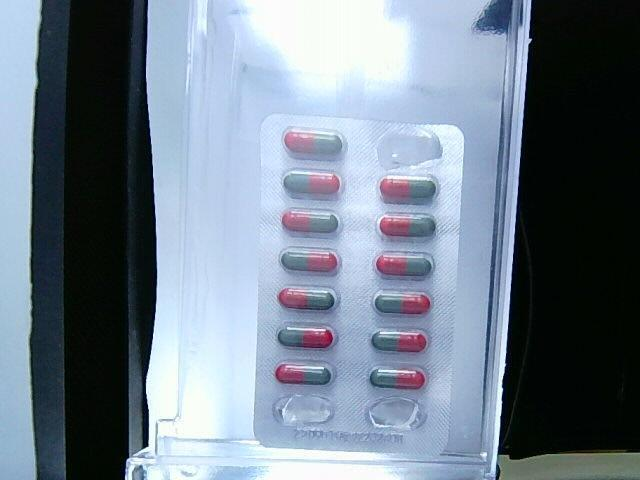Light Front: (256, 115, 462, 455)
No Pill Front: (378, 133, 443, 169), (365, 396, 426, 431), (274, 394, 335, 427)
Pill Front: (280, 248, 340, 274), (375, 251, 433, 276), (281, 209, 339, 233), (284, 130, 342, 153), (378, 214, 436, 237), (374, 291, 431, 314), (284, 170, 340, 193), (380, 175, 436, 198), (278, 288, 336, 310), (278, 326, 335, 348), (371, 330, 427, 352), (275, 363, 331, 385), (370, 368, 426, 389)
